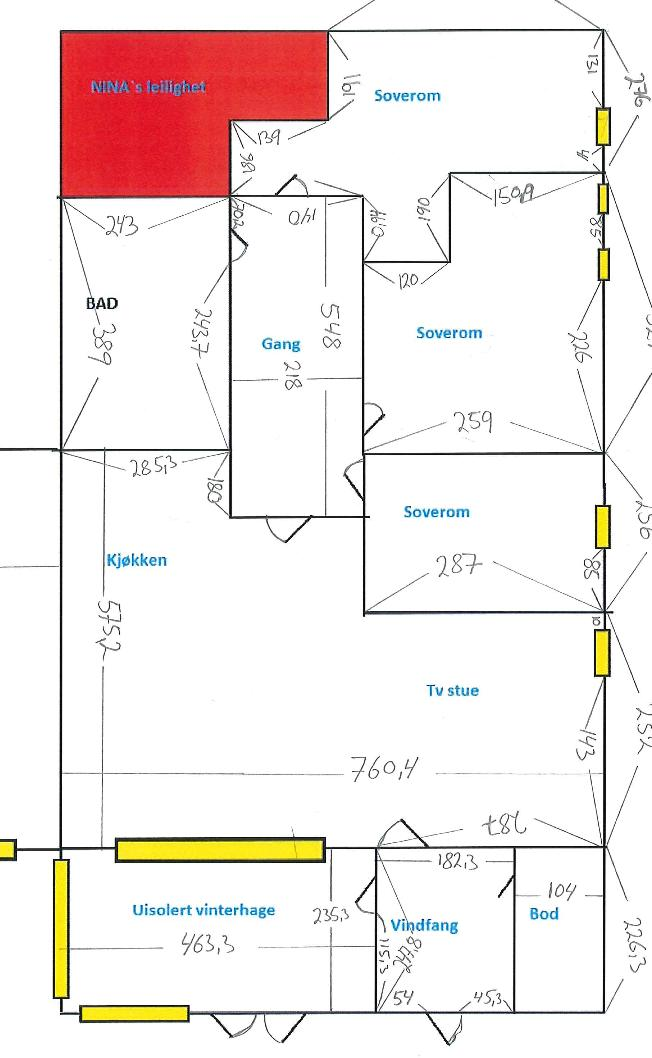room: (361, 171, 603, 453), (229, 29, 603, 195), (61, 847, 377, 1013), (229, 198, 365, 517), (61, 197, 229, 449), (364, 453, 604, 613), (377, 848, 514, 1010), (514, 847, 603, 1012)
